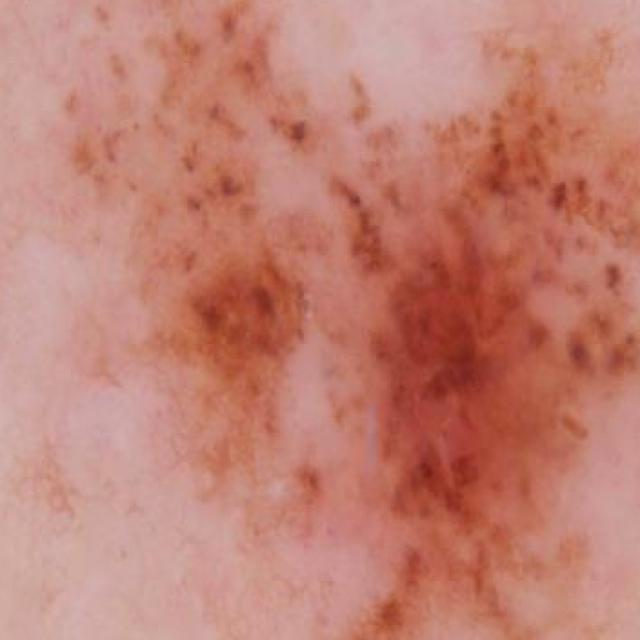NV: (65, 0, 640, 640)
